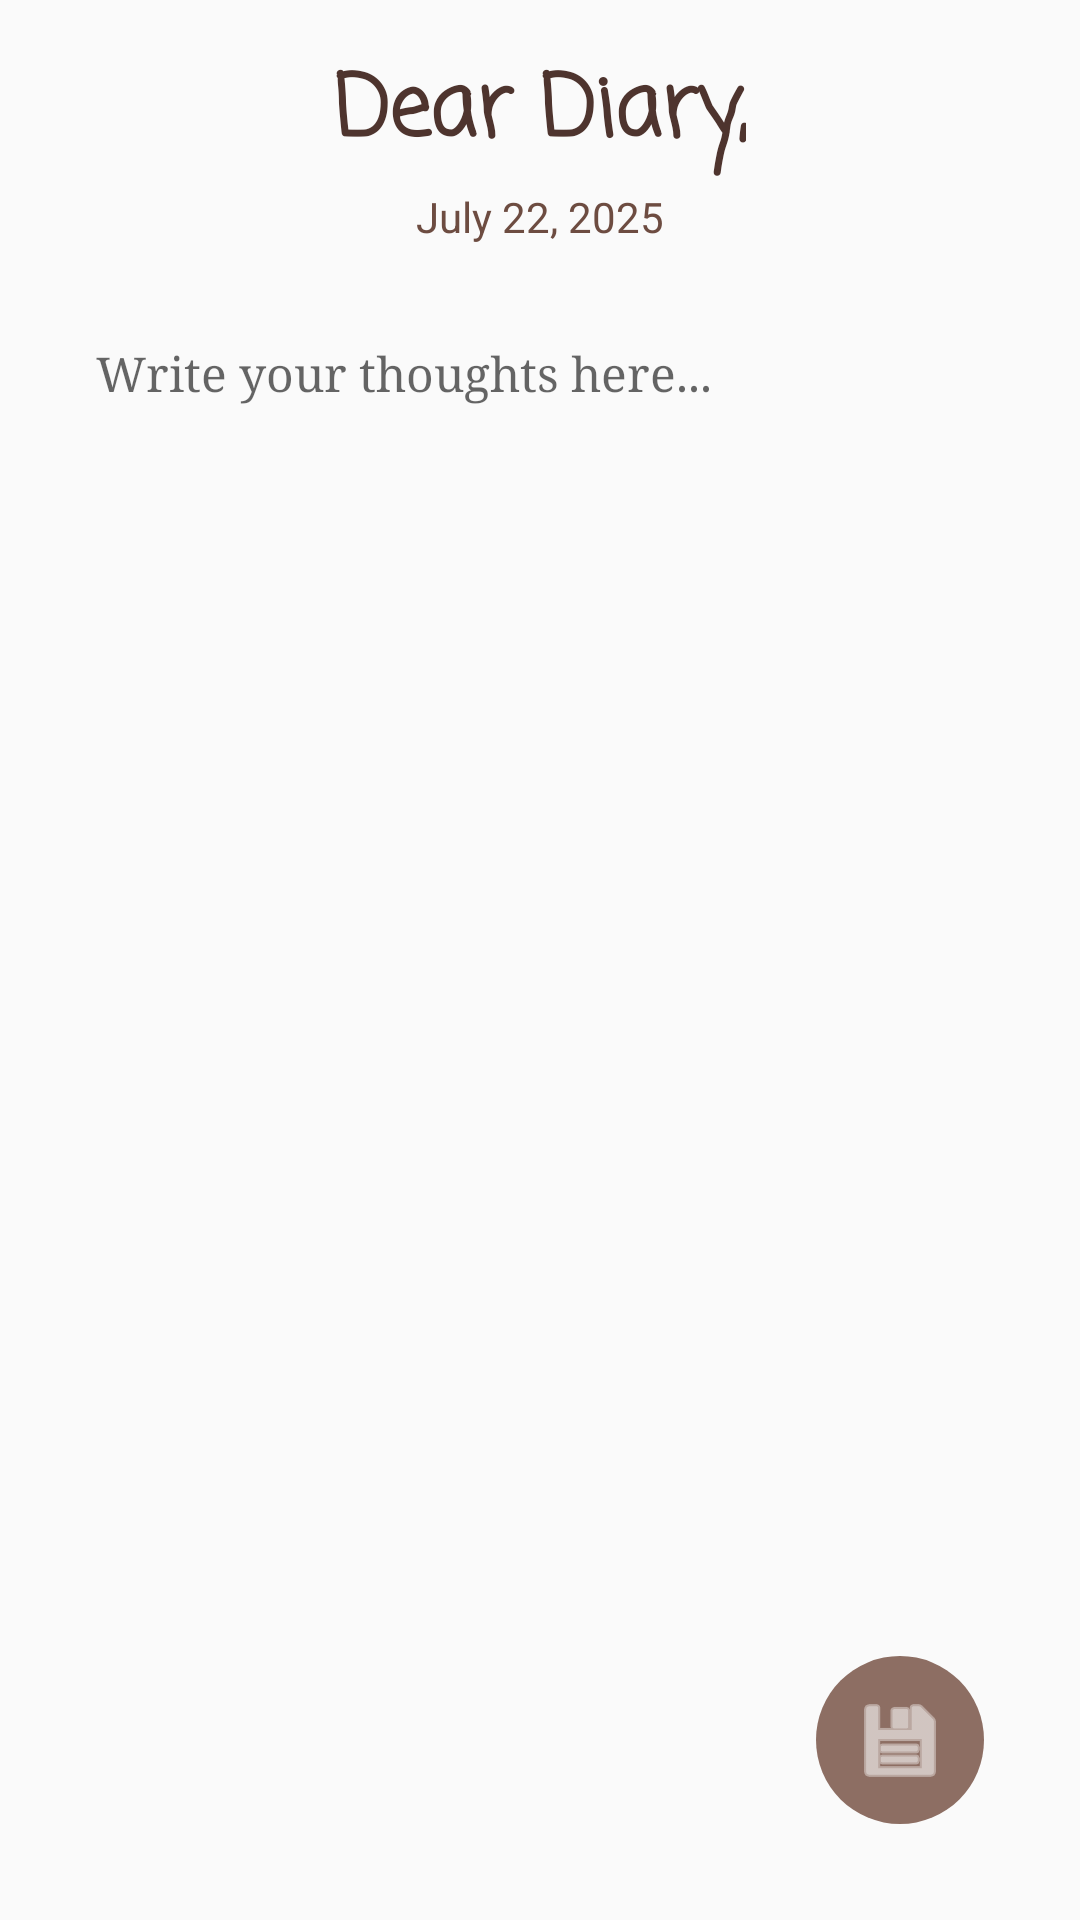

Locate icon controls on the screen. Image size 1080px×1920px, boxes as {"x1": x1, "y1": y1, "x2": x2, "y2": y2}.
Save: {"x1": 816, "y1": 1656, "x2": 984, "y2": 1824}
